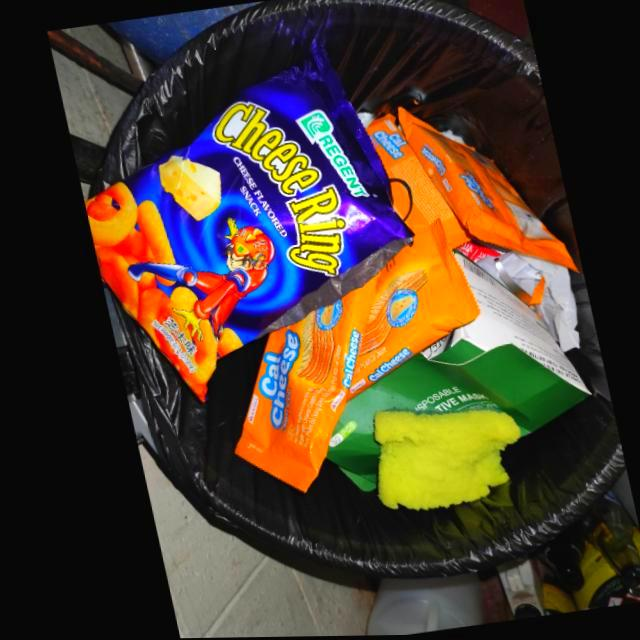cardboard: (316, 251, 582, 492)
food_wrapper: (79, 40, 408, 403), (225, 276, 372, 493), (395, 106, 572, 273), (337, 218, 474, 401), (362, 114, 465, 250)
